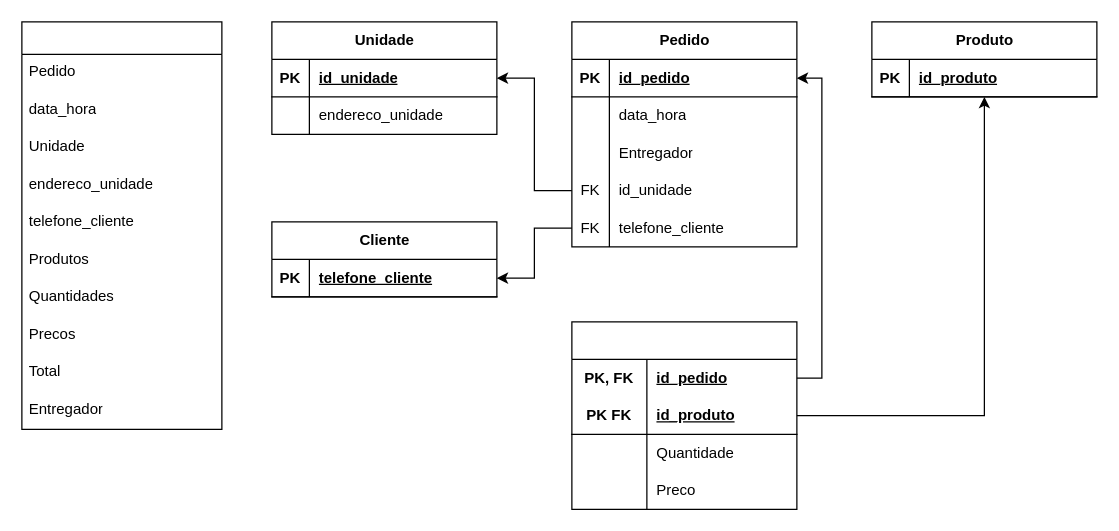
Some shapes in this 1119 by 531 pixel diagram are drawn without their labels. Each missing label, with the box of its shape:
item_pedido: (571, 321, 797, 509)
planilha_pedidos: (21, 21, 222, 429)
